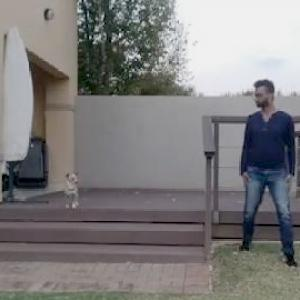follow: (238, 73, 294, 277)
